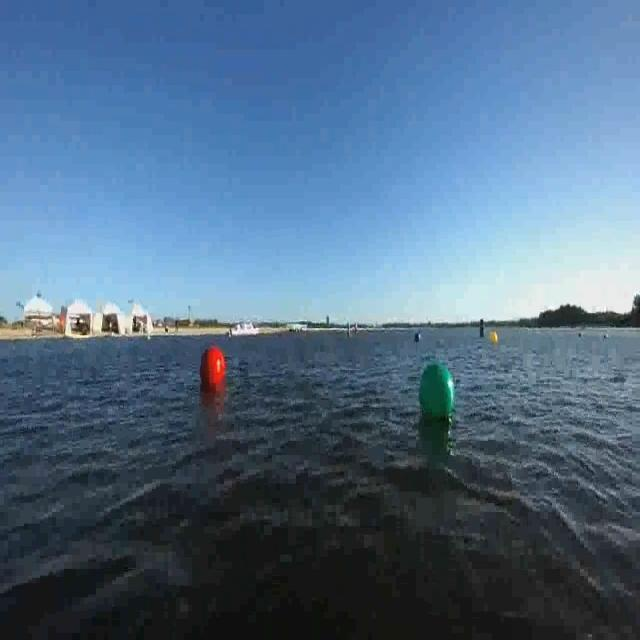blue-buoy: (413, 327, 422, 344)
green-buoy: (418, 358, 455, 419)
red-buoy: (200, 345, 226, 387)
yellow-buoy: (490, 332, 499, 346)
